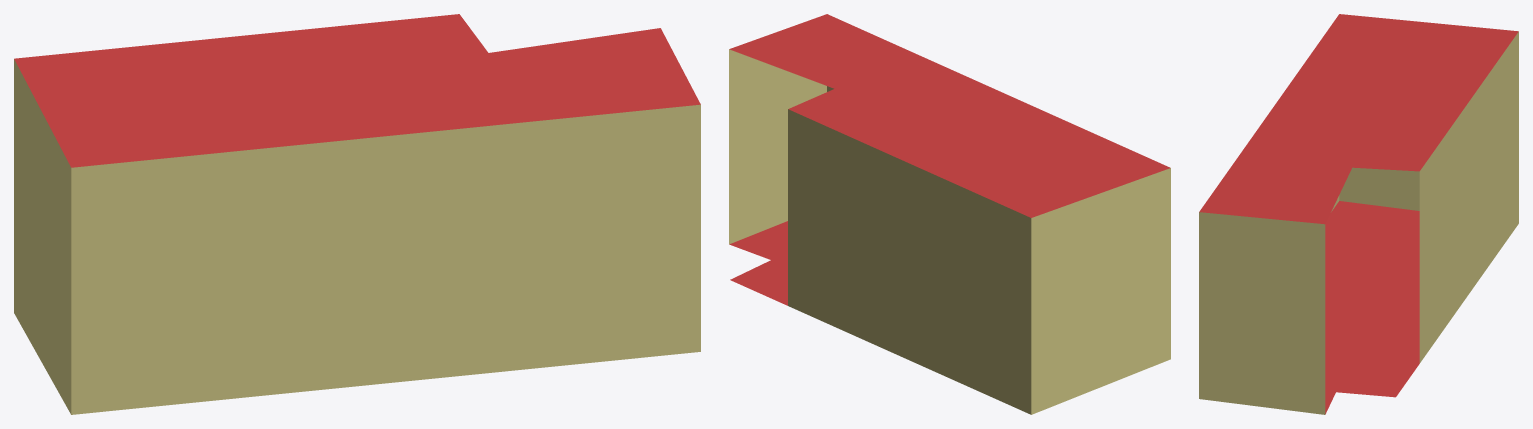
3 views of the same model, side by side, from view 1: azimuth 30°, elevation 25°; view 2: azimuth 150°, elevation 25°; view 3: azimuth 270°, elevation 25° (orthographic). The views are drawn at different scales.
Bounding box in the file's own units: 16.77 × 10.59 × 7.03.
